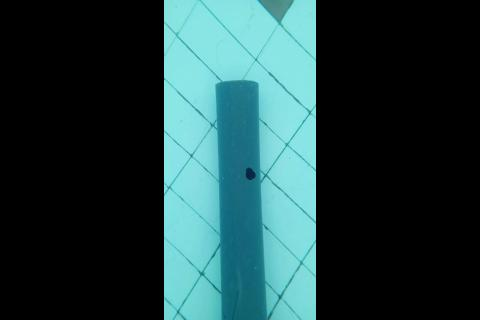kebocoran: (244, 165, 256, 180)
keretakan: (222, 289, 239, 320)
